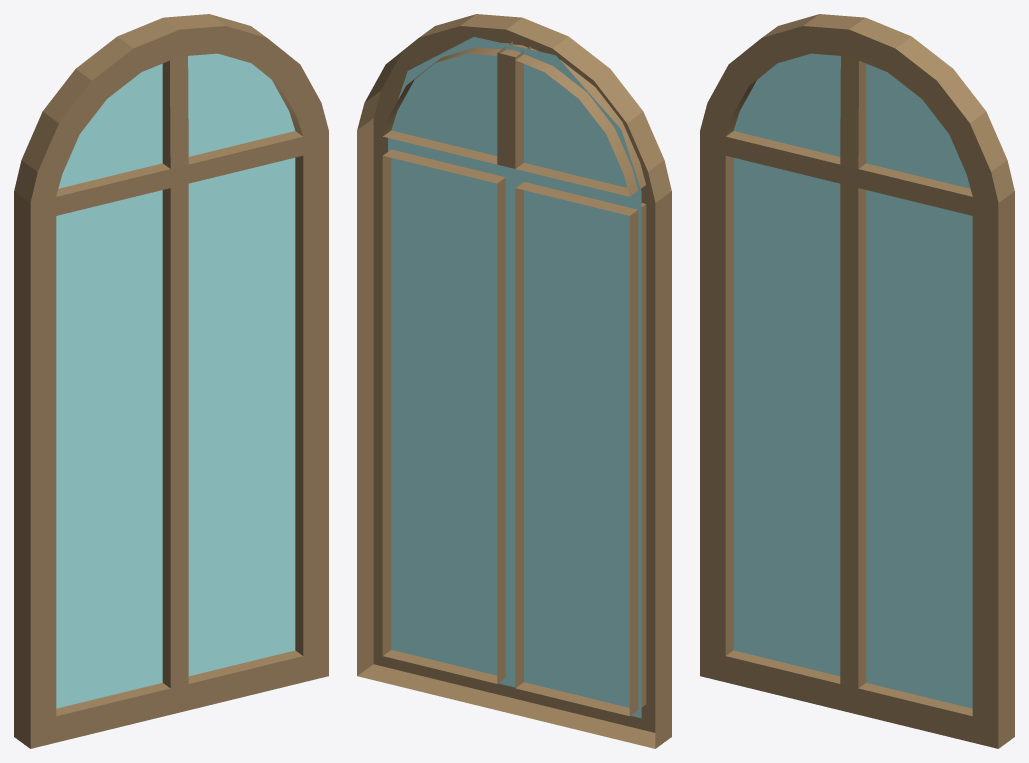
File: WINDOW_TALL_ARCHED_A.fbx
3 renders of one model, left to right at view 1: azimuth 30°, elevation 25°; view 2: azimuth 150°, elevation 25°; view 3: azimuth 330°, elevation 25°, orthographic.
Visible parts, largest first — view 1: WINDOW_TALL_ARCHED_A; view 2: WINDOW_TALL_ARCHED_A; view 3: WINDOW_TALL_ARCHED_A.
Boxes of the visible parts, <box> form: WINDOW_TALL_ARCHED_A: <box>14,14,328,748</box>; WINDOW_TALL_ARCHED_A: <box>357,14,671,748</box>; WINDOW_TALL_ARCHED_A: <box>700,14,1014,748</box>.
Size of the model in its own units: 127 by 277 by 12.04.
